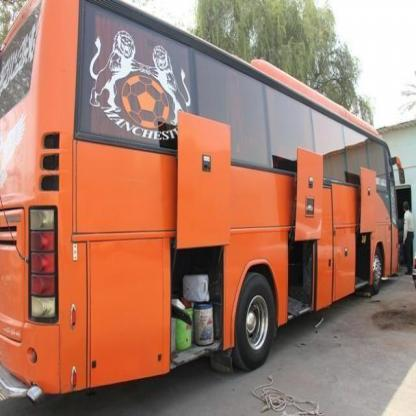Bus: (0, 12, 409, 372)
